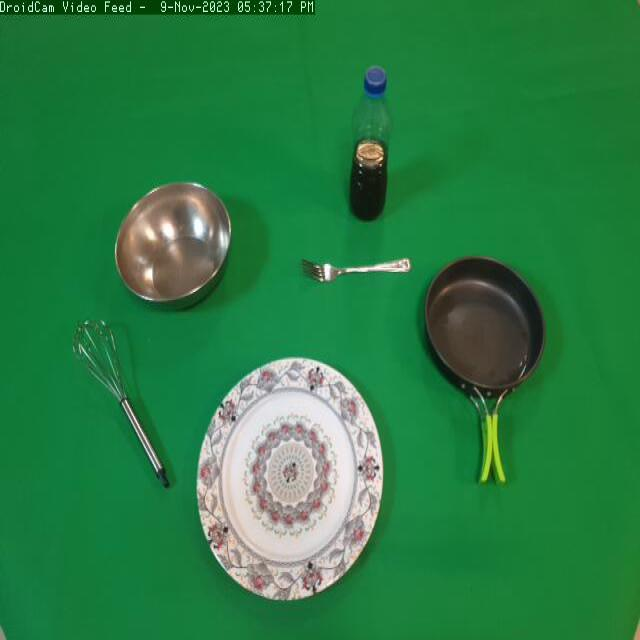bowl: (111, 178, 240, 317)
fork: (300, 244, 417, 298)
fullbottle: (343, 62, 401, 230)
pan: (420, 254, 553, 486)
plate: (190, 347, 389, 621)
whisk: (68, 302, 178, 498)
